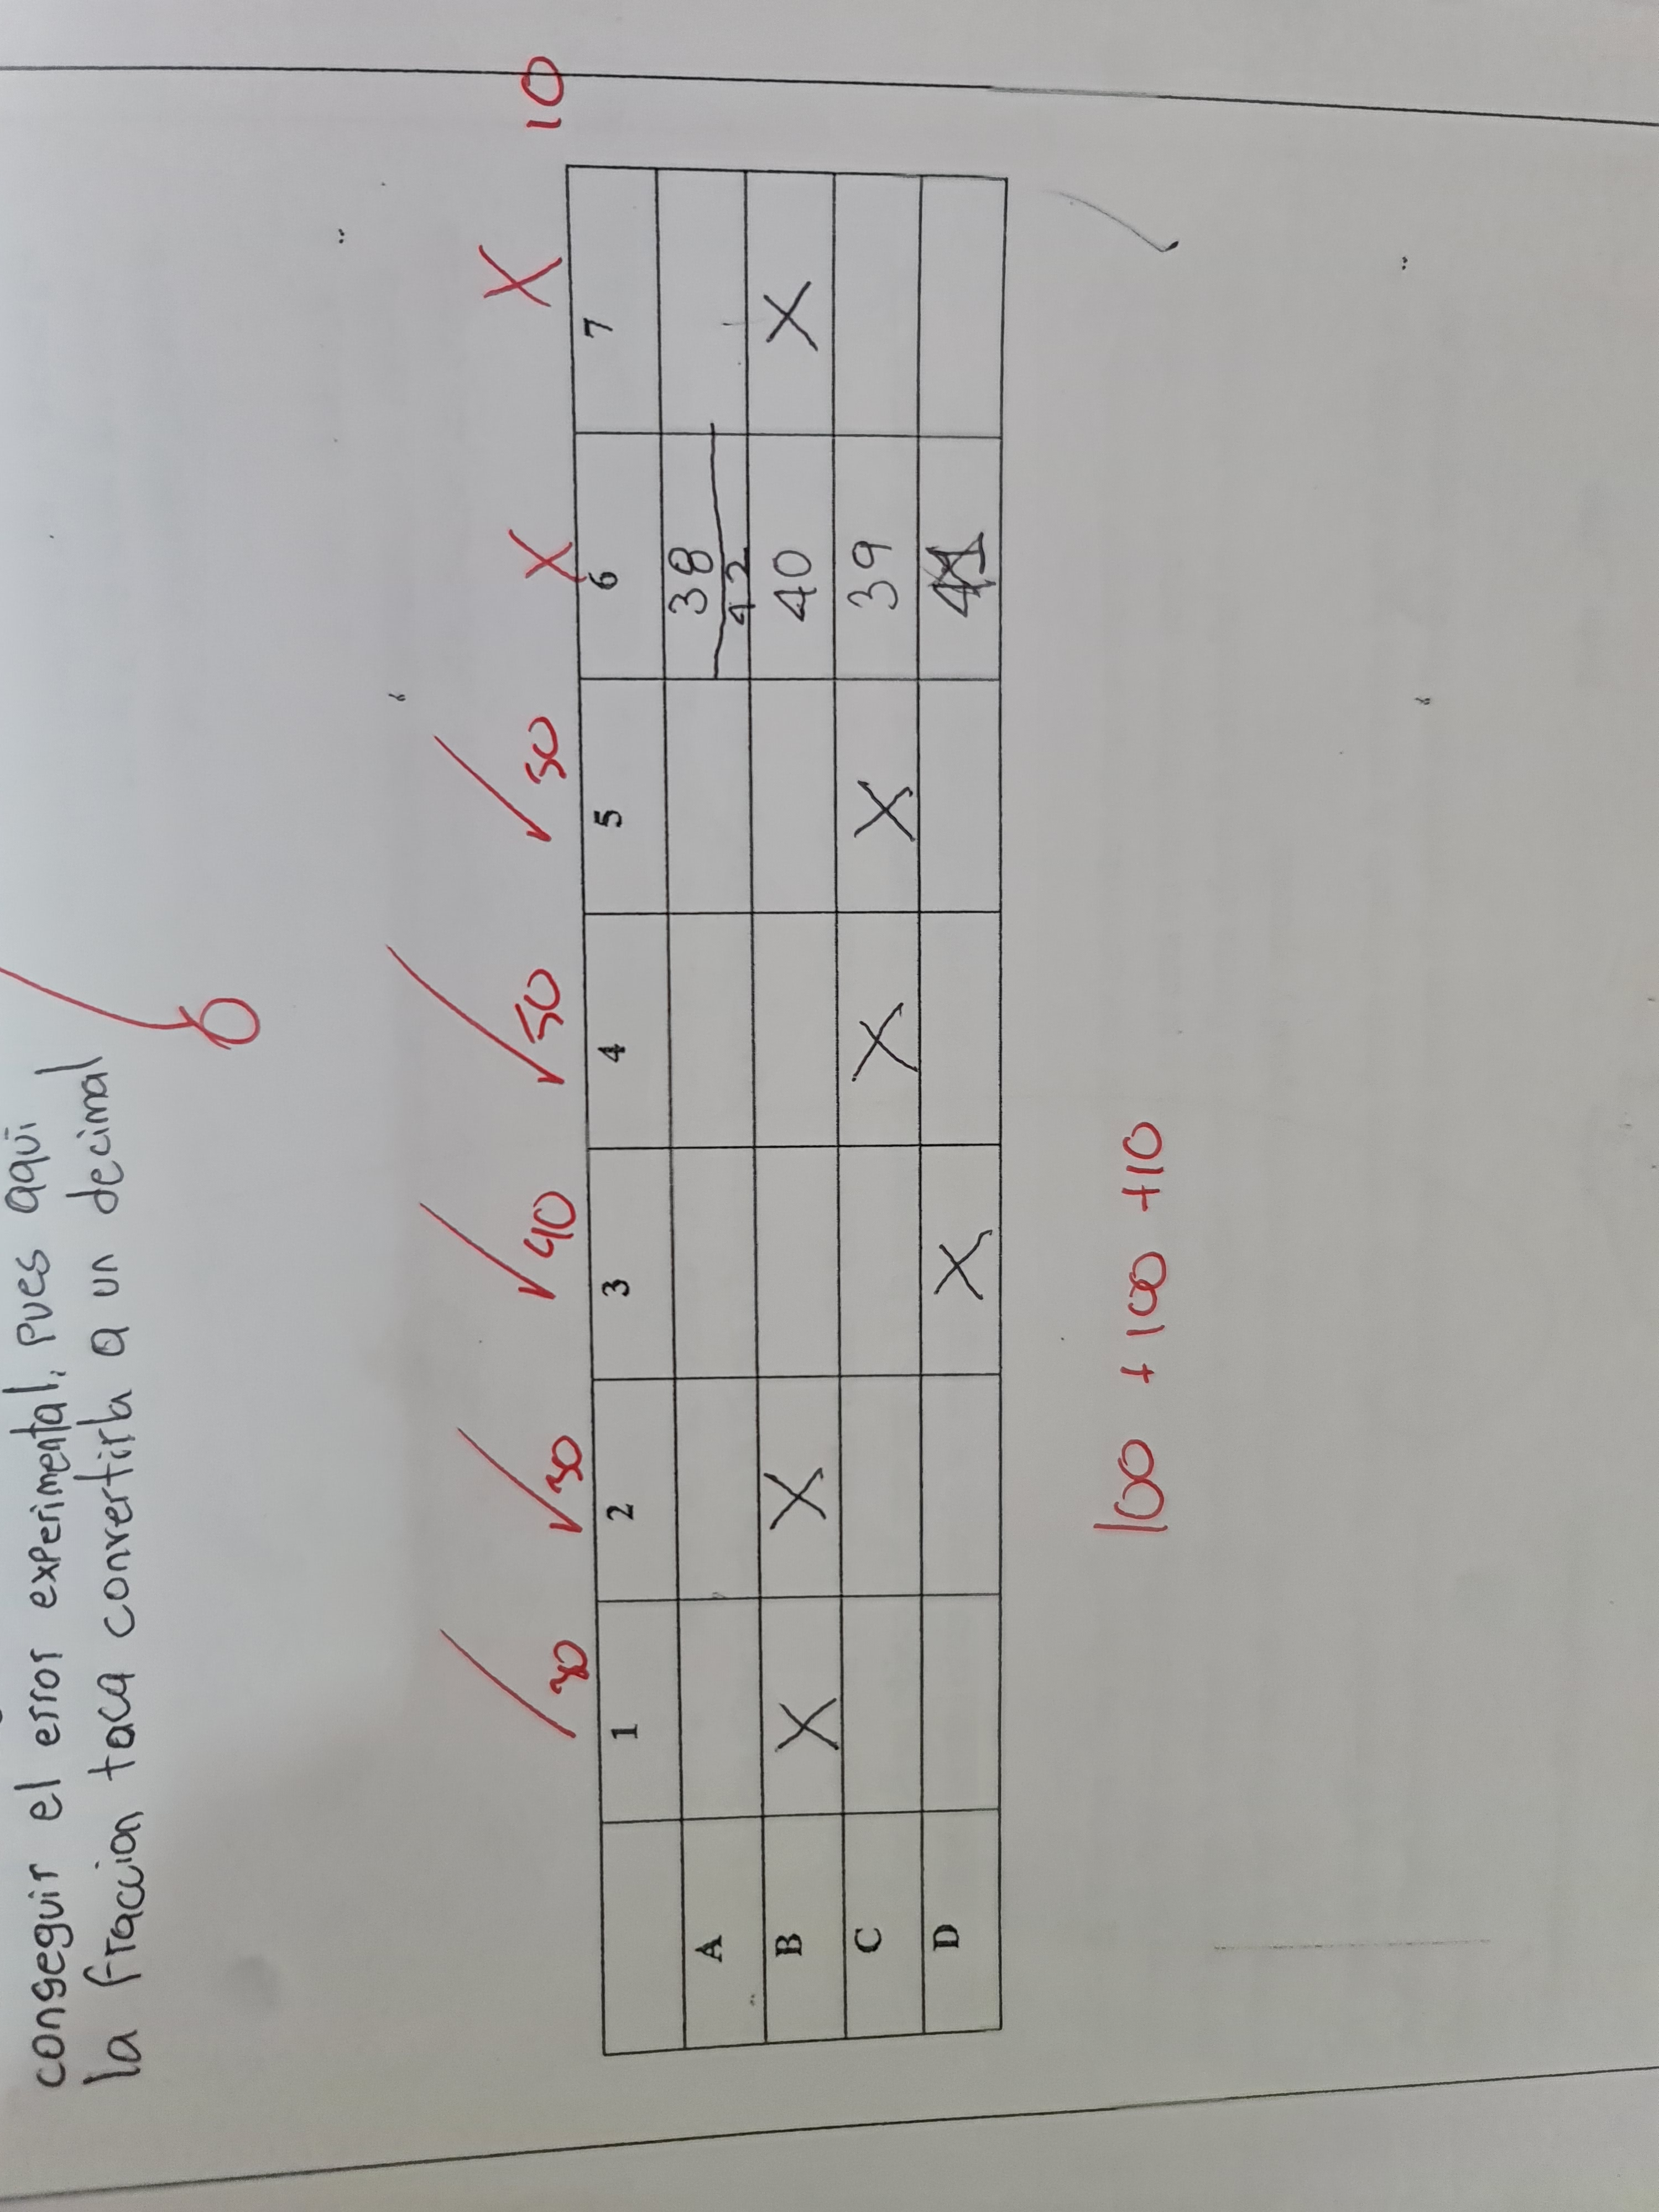column: (575, 890, 1028, 1162), (561, 660, 1023, 927), (592, 1568, 1026, 1844), (584, 1799, 1023, 2066), (580, 1355, 1018, 1620), (584, 1134, 1018, 1392)
